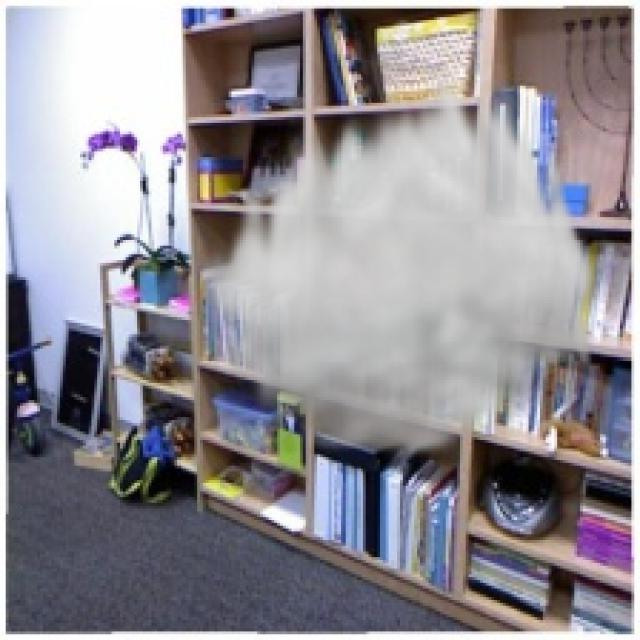smoke: (197, 60, 600, 466)
